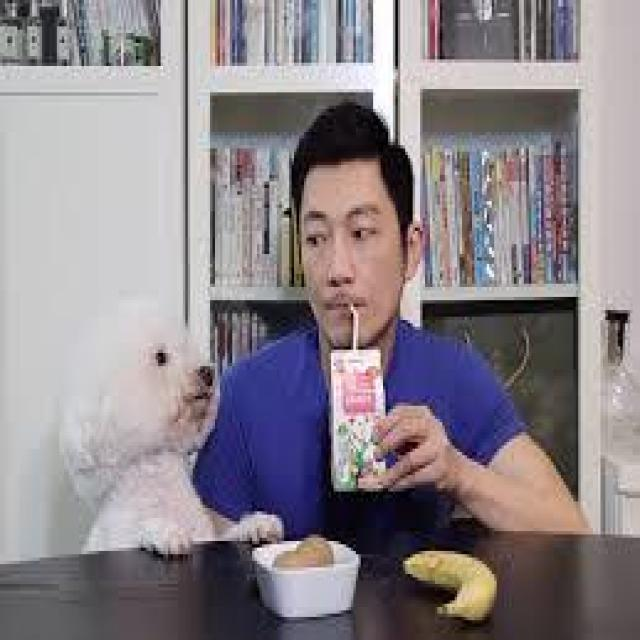TongYi_LowSugarHighFiberSoyMilk: (328, 347, 384, 485)
